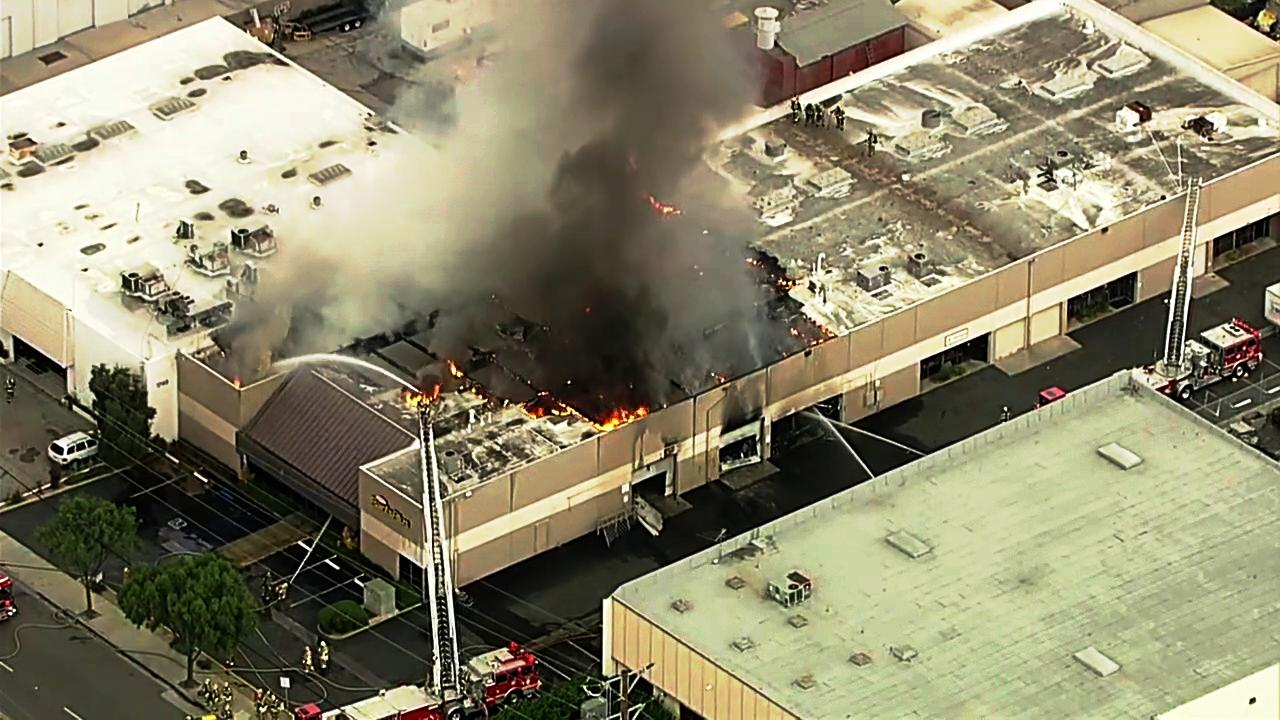smoke: (557, 6, 657, 364)
